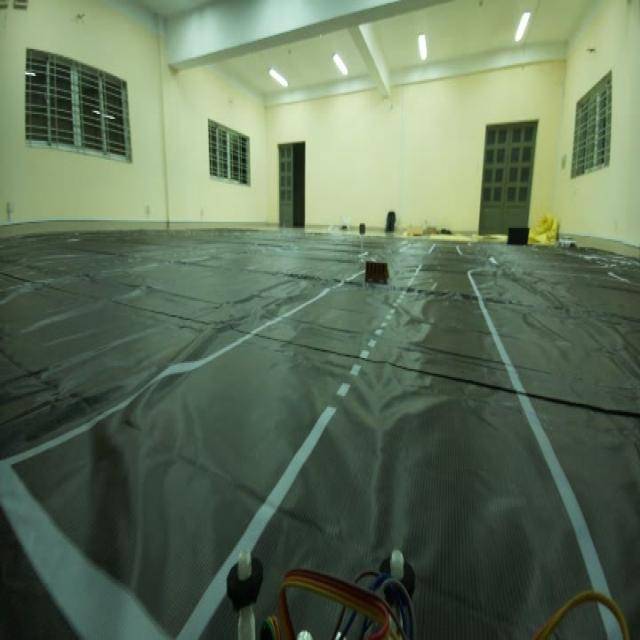roadblock: (362, 256, 393, 294)
